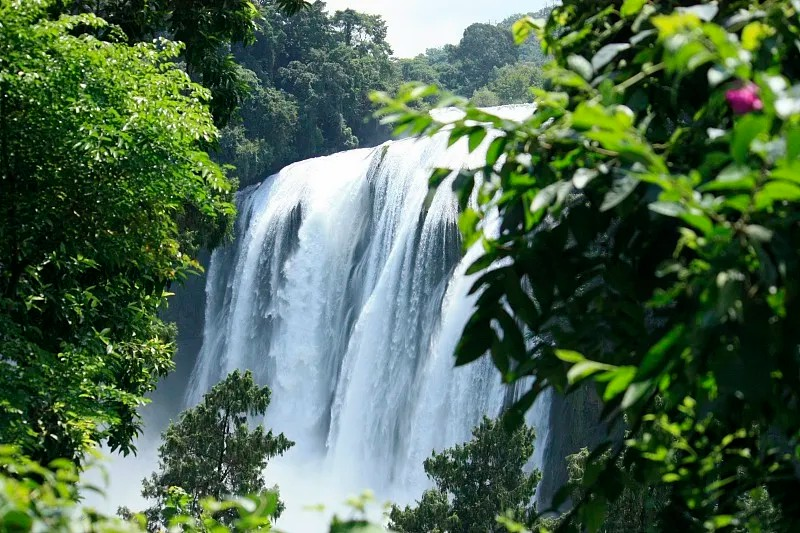Huangguoshu: (182, 139, 548, 487)
